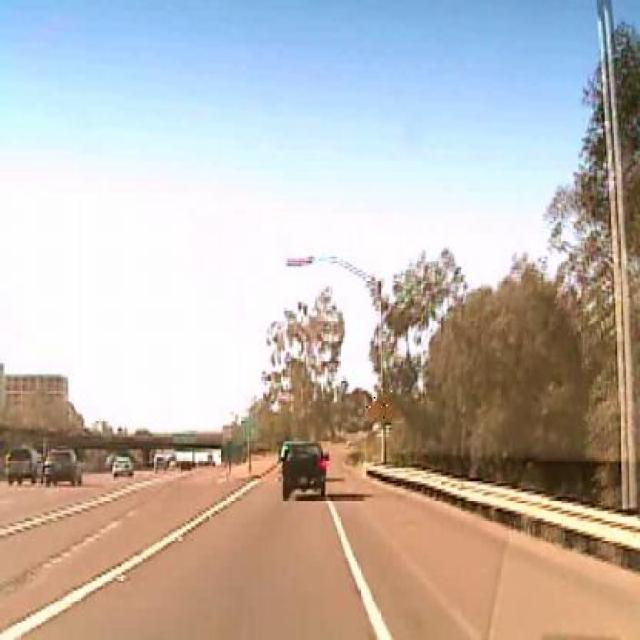signalAhead: (366, 391, 396, 429)
